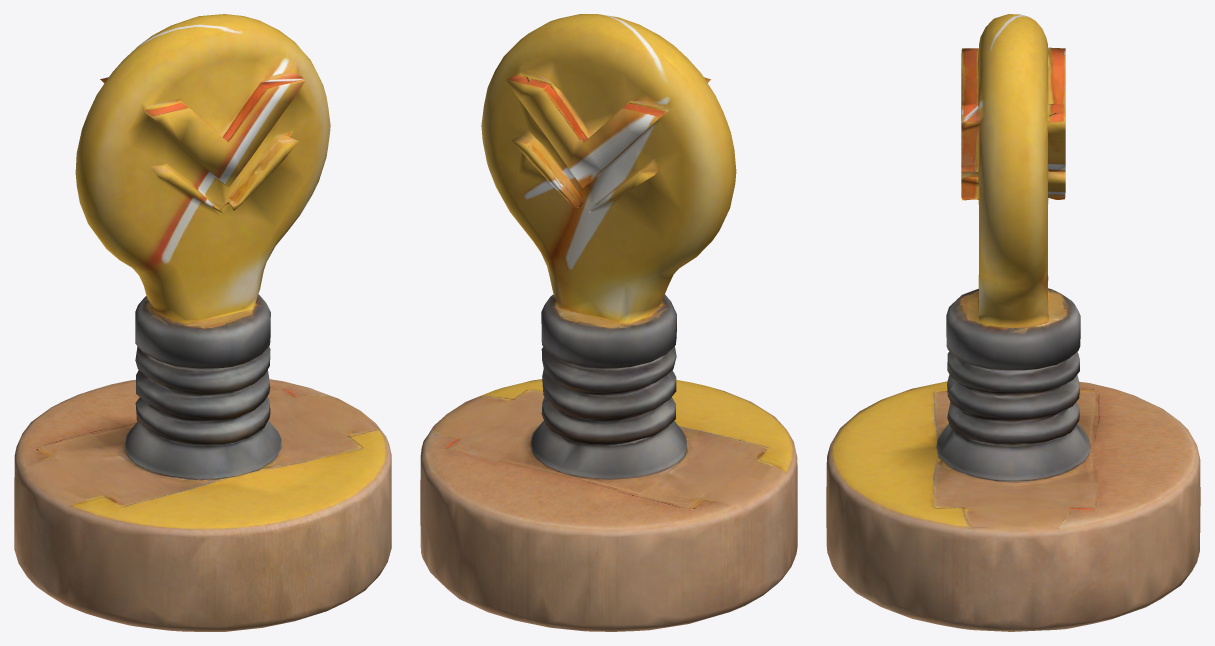
Rendered from testElectricSwitch.glb.
3 views of the same model, side by side, from view 1: azimuth 30°, elevation 25°; view 2: azimuth 150°, elevation 25°; view 3: azimuth 270°, elevation 25° (orthographic).
Visible parts, largest first — view 1: Mesh_0; view 2: Mesh_0; view 3: Mesh_0.
Part boxes in pixels (bbox=[...]): Mesh_0: bbox=[14, 14, 391, 631]; Mesh_0: bbox=[420, 14, 797, 631]; Mesh_0: bbox=[826, 14, 1200, 631].
Bounding box in the file's own units: 0.6339 × 1 × 0.6326.
Materials: 1 (1 with a texture image).
